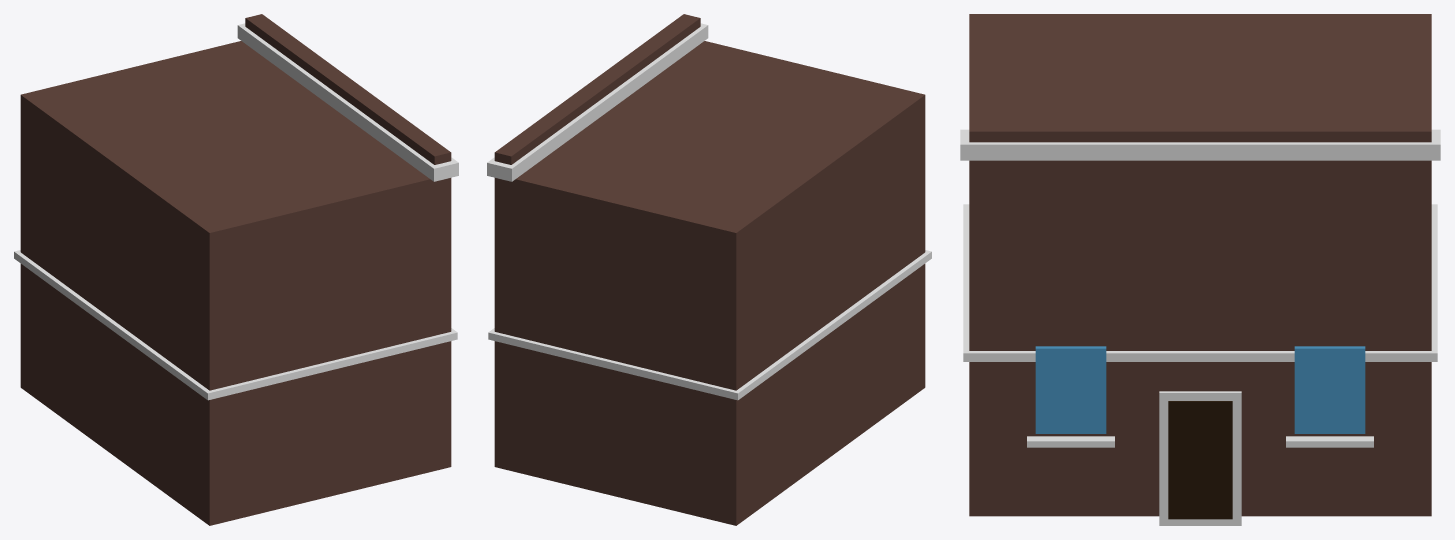
The model's file is house3.glb.
3 renders of one model, left to right at view 1: azimuth 30°, elevation 25°; view 2: azimuth 150°, elevation 25°; view 3: azimuth 270°, elevation 25°, orthographic. The views are drawn at different scales.
Size of the model in its own units: 3.05 by 3.69 by 4.09.
